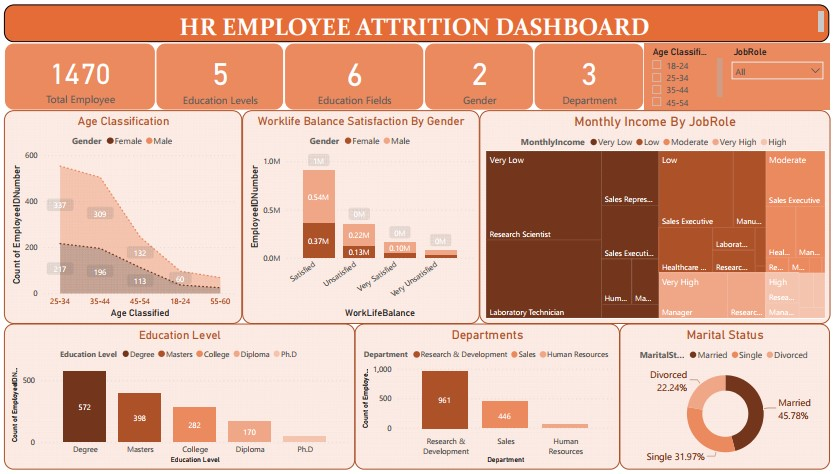

The dashboard page shown, as its layout file describes it:
{"tool":"powerbi","page":{"name":"Page 2","canvas":[1280,720],"ordinal":1},"visuals":[{"type":"textbox","box":[0,0,1279.4,58.4],"z":0},{"type":"card","fields":{"Values":["Count(HR-Employee-Attrition - Copy.Department)"]},"box":[821.2,59.1,171.3,104.9],"z":1000},{"type":"card","fields":{"Values":["Count(HR-Employee-Attrition - Copy.Gender)"]},"box":[651.3,59.1,169.8,104.9],"z":2000},{"type":"card","fields":{"Values":["Count(HR-Employee-Attrition - Copy.EducationField)"]},"box":[434.2,59.1,217.1,104.9],"z":3000},{"type":"card","fields":{"Values":["CountNonNull(HR-Employee-Attrition - Copy.EmployeeIDNumber)"]},"box":[0,59.1,234.8,104.9],"z":4000},{"type":"card","fields":{"Values":["Count(HR-Employee-Attrition - Copy.Education Level)"]},"box":[234.8,59.1,199.4,104.9],"z":5000},{"type":"treemap","title":"Monthly Income By JobRole","fields":{"Group":["HR-Employee-Attrition - Copy.MonthlyIncome"],"Values":["CountNonNull(HR-Employee-Attrition - Copy.EmployeeIDNumber)"],"Details":["HR-Employee-Attrition - Copy.JobRole"]},"box":[737,163.9,543.5,330.8],"z":6000},{"type":"columnChart","title":"Worklife Balance Satisfaction By Gender","fields":{"Category":["HR-Employee-Attrition - Copy.WorkLifeBalance"],"Y":["Sum(HR-Employee-Attrition - Copy.EmployeeIDNumber)"],"Series":["HR-Employee-Attrition - Copy.Gender"]},"box":[369.2,163.9,367.8,330.8],"z":7000},{"type":"donutChart","title":"Marital Status","fields":{"Category":["HR-Employee-Attrition - Copy.MaritalStatus"],"Y":["CountNonNull(HR-Employee-Attrition - Copy.EmployeeIDNumber)"]},"box":[954.1,494.8,326.4,226],"z":8000},{"type":"stackedAreaChart","title":"Age Classification","fields":{"Category":["HR-Employee-Attrition - Copy.Age Classified"],"Series":["HR-Employee-Attrition - Copy.Gender"],"Y":["CountNonNull(HR-Employee-Attrition - Copy.EmployeeIDNumber)"]},"box":[0,163.9,369.2,330.8],"z":9000},{"type":"columnChart","title":"Departments","fields":{"Category":["HR-Employee-Attrition - Copy.Department","HR-Employee-Attrition - Copy.MonthlyIncome"],"Y":["CountNonNull(HR-Employee-Attrition - Copy.EmployeeIDNumber)"],"Series":["HR-Employee-Attrition - Copy.Department"]},"box":[543.5,494.8,410.6,226],"z":10000},{"type":"columnChart","title":"Education Level","fields":{"Y":["CountNonNull(HR-Employee-Attrition - Copy.EmployeeIDNumber)"],"Category":["HR-Employee-Attrition - Copy.Education Level"],"Series":["HR-Employee-Attrition - Copy.Education Level"]},"box":[0,494.8,543.5,226],"z":11000},{"type":"slicer","fields":{"Values":["HR-Employee-Attrition - Copy.Age Classified"]},"box":[992.5,60.6,125.5,103.4],"z":12000},{"type":"slicer","fields":{"Values":["HR-Employee-Attrition - Copy.JobRole"]},"box":[1118,60.6,162.5,103.4],"z":13000}]}

Visuals, with their boxes in screenshot pixels (x1, y1, x2, y2), scaled from the page's 1280x720 canvas onto the 835x474 screenshot:
textbox: 0/0/834/38
card - Count(HR-Employee-Attrition - Copy.Department): 536/39/647/108
card - Count(HR-Employee-Attrition - Copy.Gender): 425/39/536/108
card - Count(HR-Employee-Attrition - Copy.EducationField): 283/39/425/108
card - CountNonNull(HR-Employee-Attrition - Copy.EmployeeIDNumber): 0/39/153/108
card - Count(HR-Employee-Attrition - Copy.Education Level): 153/39/283/108
"Monthly Income By JobRole" treemap: 481/108/834/326
"Worklife Balance Satisfaction By Gender" columnChart: 241/108/481/326
"Marital Status" donutChart: 622/326/834/473
"Age Classification" stackedAreaChart: 0/108/241/326
"Departments" columnChart: 355/326/622/473
"Education Level" columnChart: 0/326/355/473
slicer - HR-Employee-Attrition - Copy.Age Classified: 647/40/729/108
slicer - HR-Employee-Attrition - Copy.JobRole: 729/40/834/108
